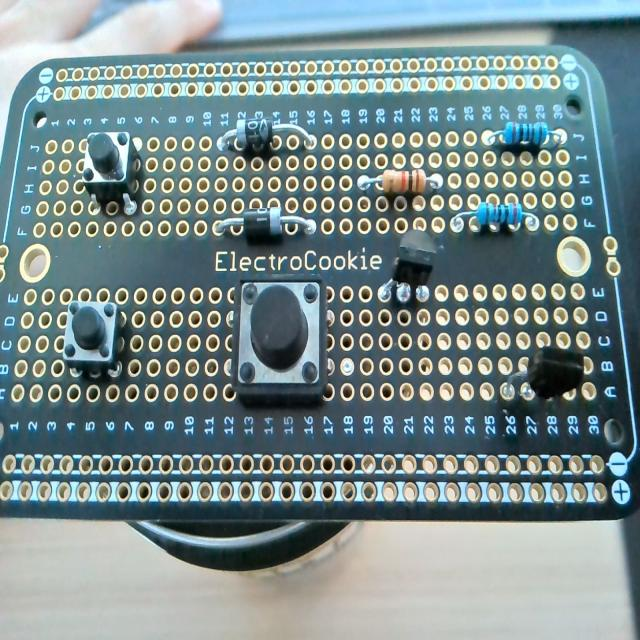diode: (216, 112, 320, 152), (215, 206, 319, 239), (358, 168, 440, 194)
resistor: (501, 120, 552, 146), (476, 201, 521, 227)
switch: (231, 274, 328, 402), (82, 129, 141, 213), (61, 298, 121, 376)
transistor: (378, 228, 440, 308), (503, 346, 586, 402)
